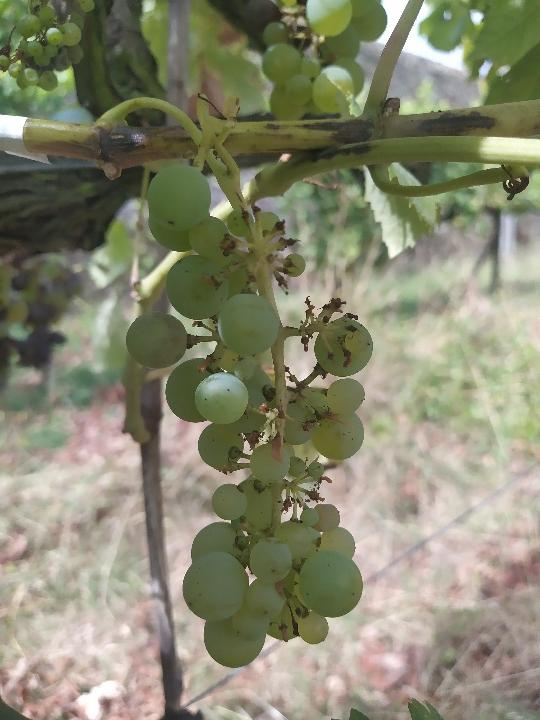grape: (121, 160, 378, 672)
